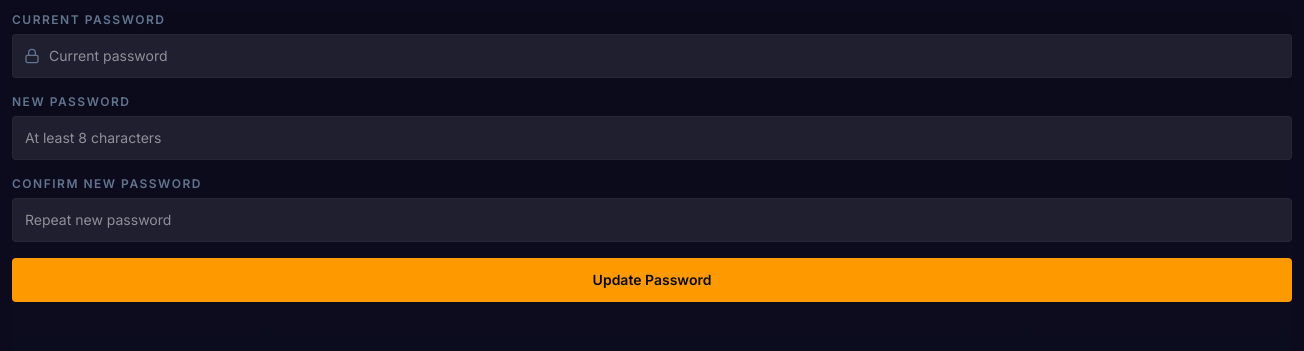
ChangePasswordForm › rejects mismatched passwords
Step 1. Type "current-password" into the password field with placeholder "Current password" → (652, 56), box [12,34,1292,78]
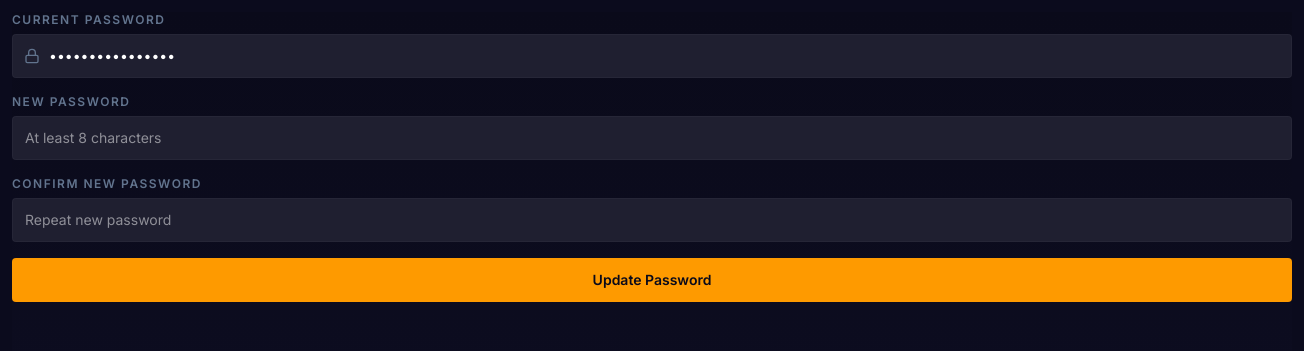
Step 2. Type "new-password-123" into the password field with placeholder "At least 8 characters" → (652, 138), box [12,116,1292,160]
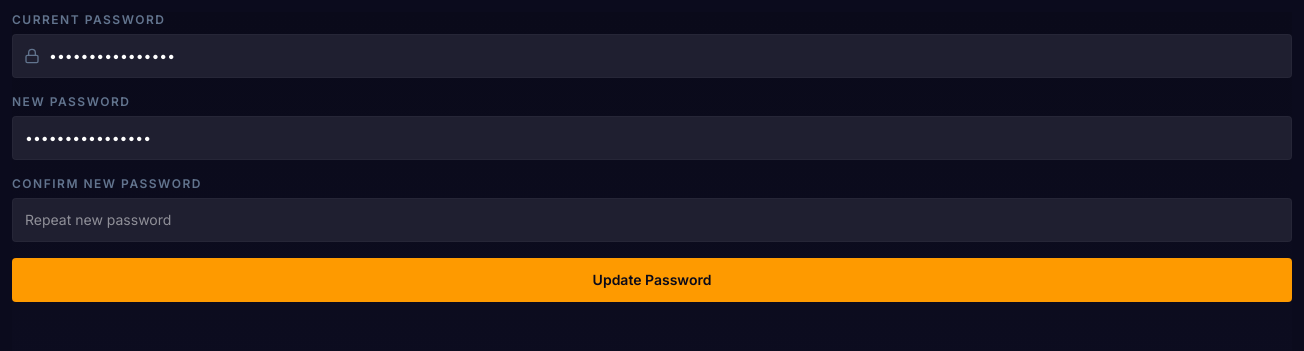
Step 3. Type "different-456" into the password field with placeholder "Repeat new password" → (652, 220), box [12,198,1292,242]
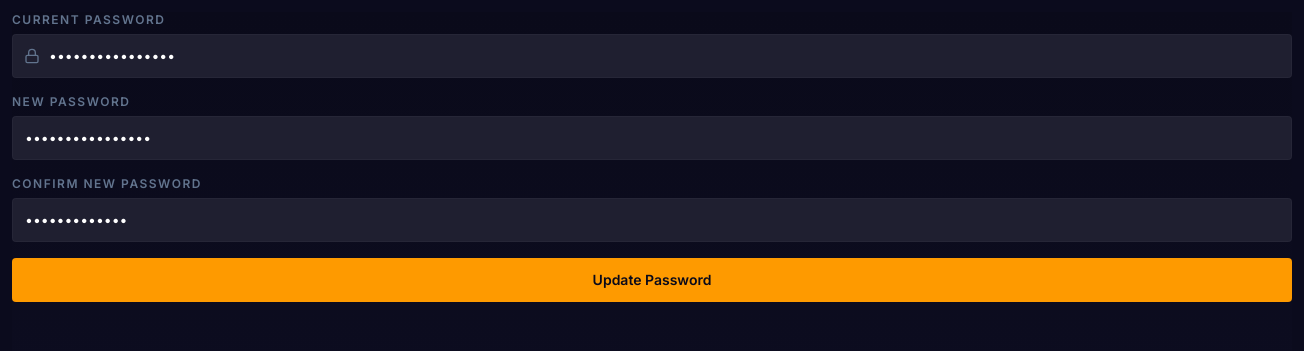
Step 4. Click the button "Update Password" → (652, 280), box [12,258,1292,302]
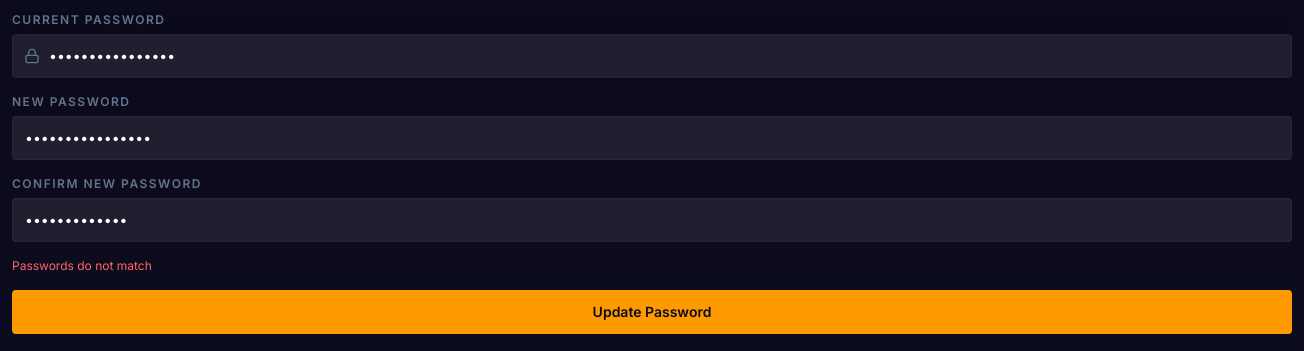
Expected: the text "Passwords do not match" is shown, [12,258,152,273]
